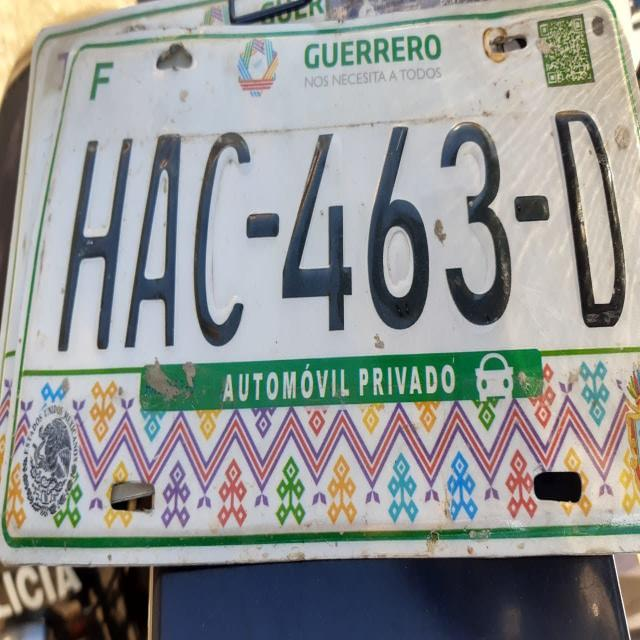placa: (61, 113, 633, 357)
